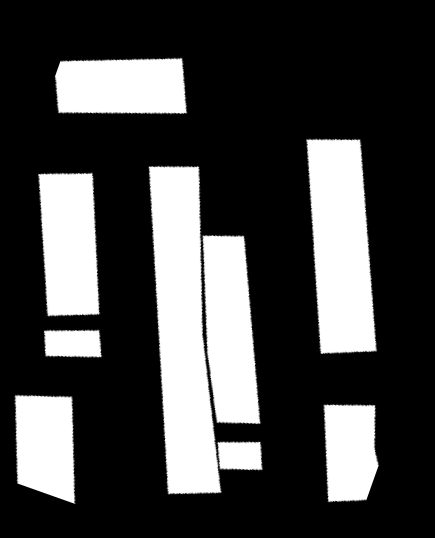parkingspot: (149, 166, 221, 494), (306, 139, 377, 354), (203, 235, 260, 424), (38, 173, 100, 316), (55, 58, 187, 114), (15, 395, 75, 504), (324, 404, 379, 502), (44, 330, 102, 357), (217, 442, 262, 470)
